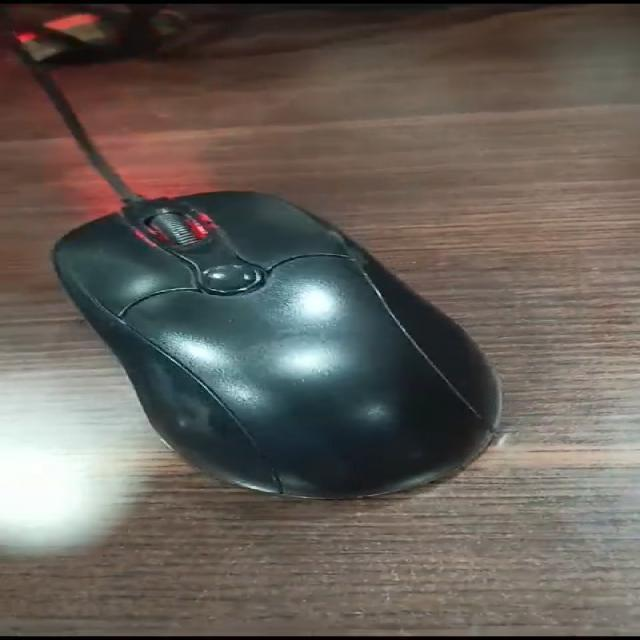Mouse: (21, 162, 548, 540)
